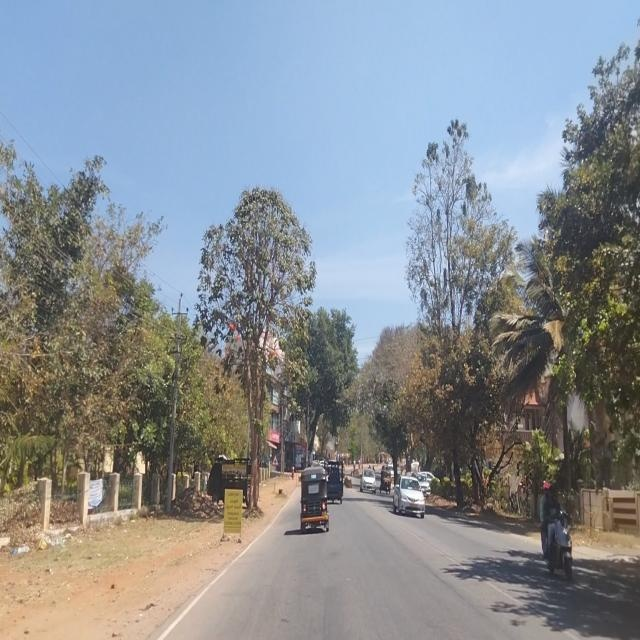bien_nguy_hiem: (272, 454, 278, 466)
